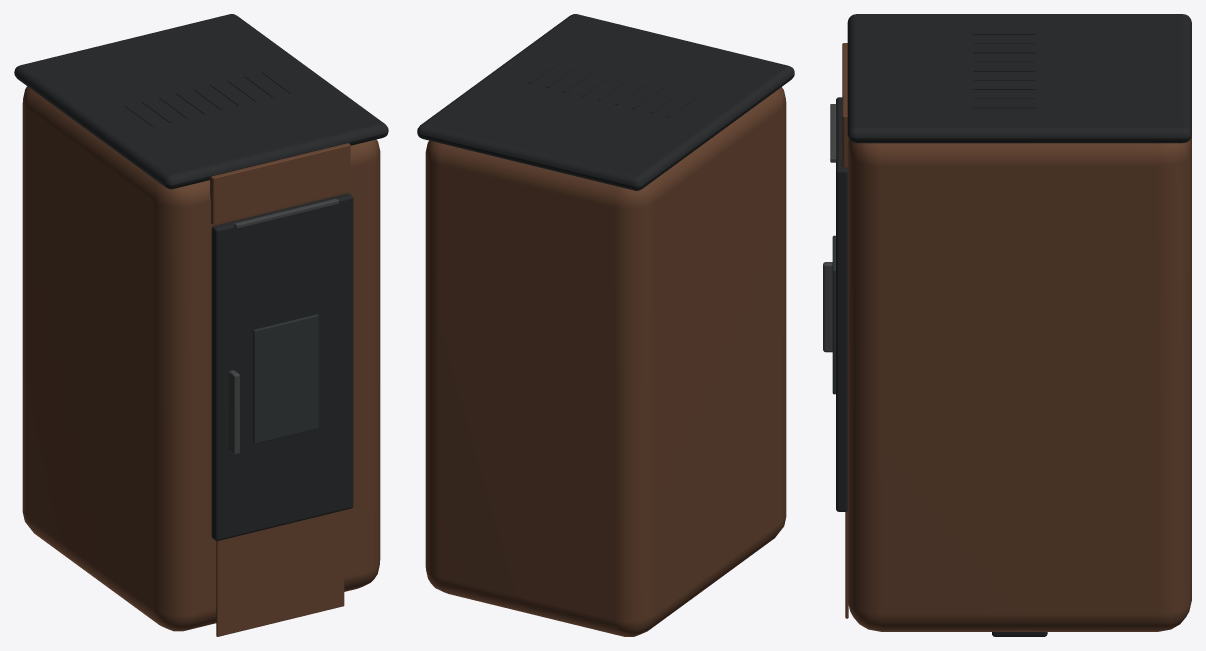
The model's file is nordica-sabry-ad-bronzo.glb.
3 renders of one model, left to right at view 1: azimuth 30°, elevation 25°; view 2: azimuth 150°, elevation 25°; view 3: azimuth 270°, elevation 25°, orthographic. The views are drawn at different scales.
Parts seen in each view (by area): view 1: Corpo laterale, Cornice sportello, Copertura superiore, Base frontale, Vetro sportello, Pannello superiore, Maniglia sportello, Presa superiore; view 2: Corpo laterale, Copertura superiore; view 3: Corpo laterale, Copertura superiore, Cornice sportello, Maniglia sportello, Pannello superiore, Vetro sportello.
Part boxes in pixels (box(x1,y1,x2,y2)): Corpo laterale: box(22, 86, 380, 631); Cornice sportello: box(211, 193, 353, 540); Copertura superiore: box(14, 14, 388, 189); Base frontale: box(216, 510, 344, 636); Vetro sportello: box(253, 314, 318, 443); Pannello superiore: box(210, 143, 350, 224); Maniglia sportello: box(228, 370, 239, 454); Presa superiore: box(234, 198, 338, 228); Corpo laterale: box(425, 87, 786, 636); Copertura superiore: box(417, 14, 794, 190); Corpo laterale: box(847, 135, 1191, 631); Copertura superiore: box(847, 14, 1191, 143); Cornice sportello: box(836, 97, 847, 511); Maniglia sportello: box(823, 262, 832, 352); Pannello superiore: box(842, 43, 848, 167); Vetro sportello: box(832, 235, 835, 394).
Size of the model in its own units: 0.456 by 0.9258 by 0.5945.
